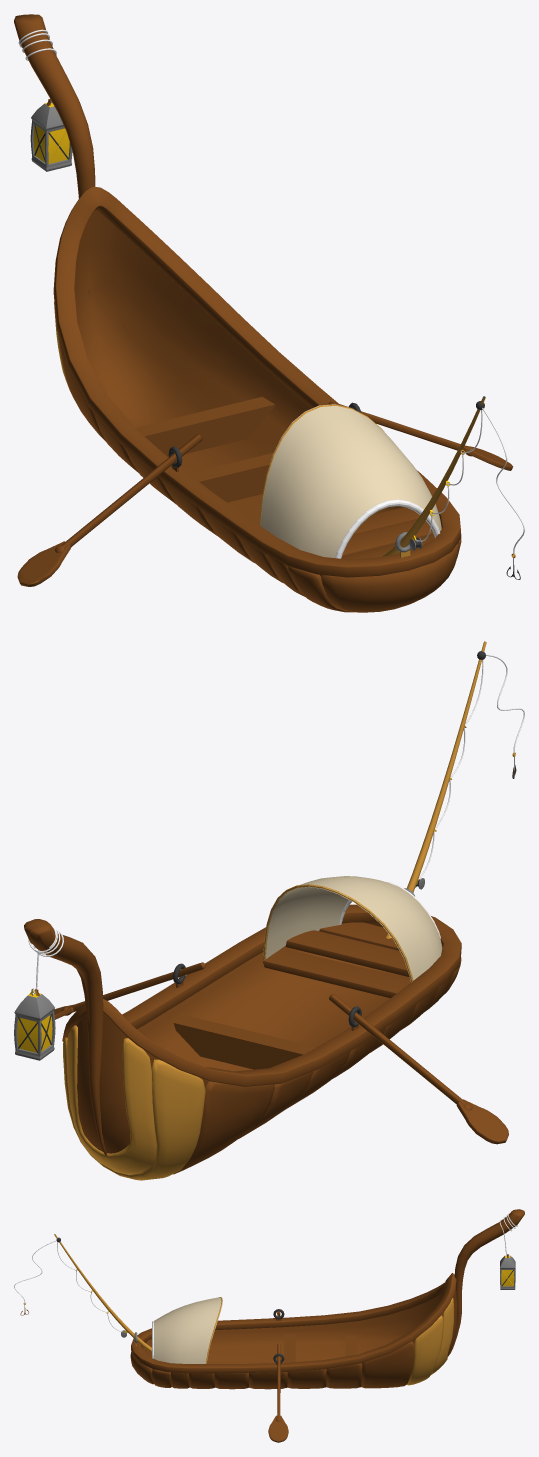
File: ship.glb
3 renders of one model, top to bottom at view 1: azimuth 30°, elevation 25°; view 2: azimuth 150°, elevation 25°; view 3: azimuth 270°, elevation 25°, orthographic. The views are drawn at different scales.
Visible parts, largest first — view 1: RBR_Stylized_ship_19; view 2: RBR_Stylized_ship_19; view 3: RBR_Stylized_ship_19.
Part boxes in pixels (x1,y1,x2,y2): RBR_Stylized_ship_19: (14, 14, 524, 612); RBR_Stylized_ship_19: (14, 641, 524, 1180); RBR_Stylized_ship_19: (14, 1209, 524, 1442).
Bounding box in the file's own units: 2.82 × 1.87 × 5.01.
Materials: 1 (1 with a texture image).
